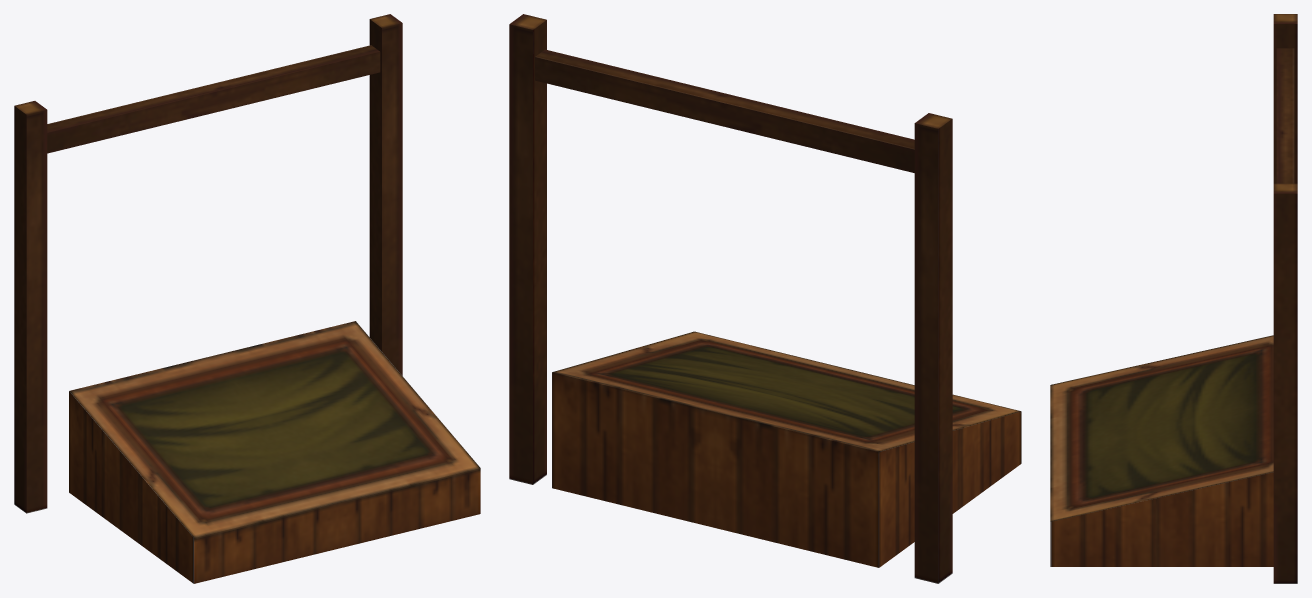
File: 2_YiZhan_WuQiJia_01.FBX
The picture shows the model from 3 angles, left to right: view 1: azimuth 30°, elevation 25°; view 2: azimuth 150°, elevation 25°; view 3: azimuth 270°, elevation 25°; orthographic projection. The views are drawn at different scales.
Visible parts, largest first — view 1: 2_YiZhan_WuQiJia_01; view 2: 2_YiZhan_WuQiJia_01; view 3: 2_YiZhan_WuQiJia_01.
Boxes of the visible parts, left/top/right/bottom form: 2_YiZhan_WuQiJia_01: left=14, top=14, right=480, bottom=583; 2_YiZhan_WuQiJia_01: left=509, top=14, right=1021, bottom=583; 2_YiZhan_WuQiJia_01: left=1050, top=14, right=1297, bottom=583.
Bounding box in the file's own units: 261 × 264 × 152.
